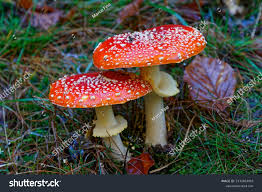Amanita muscaria: (89, 13, 206, 150), (47, 70, 149, 164)
